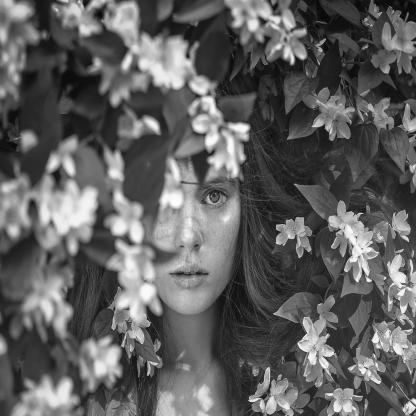Eye: (200, 187, 231, 214)
Mouth: (168, 261, 213, 289)
Nose: (175, 197, 202, 251)
